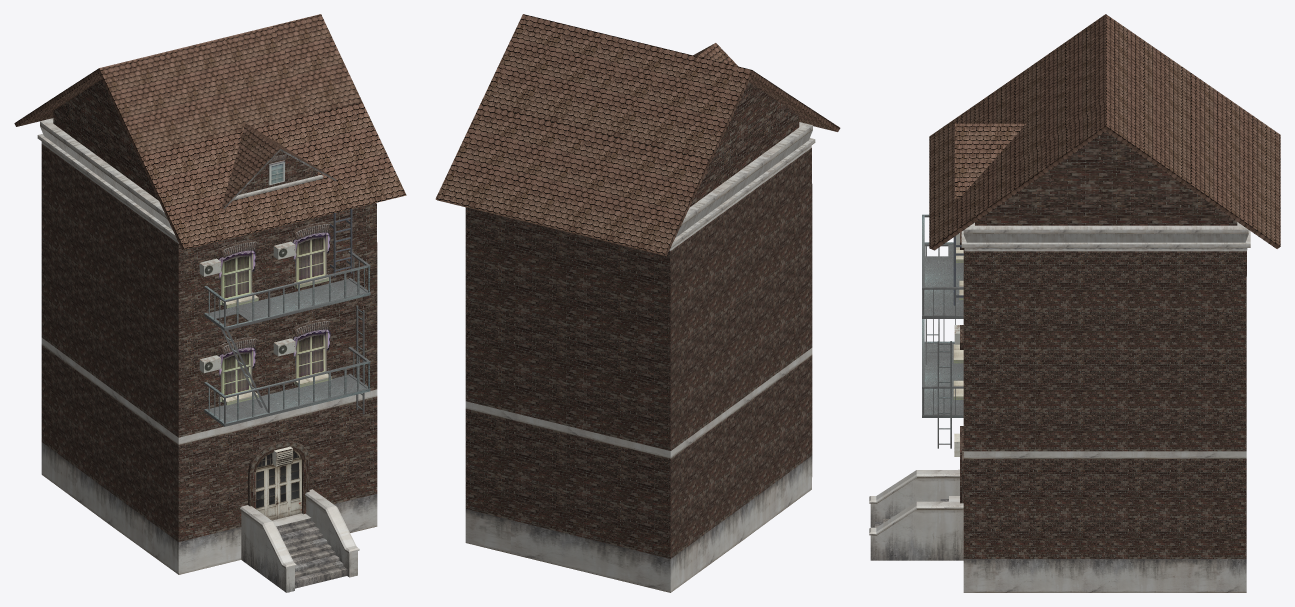
The model's file is city3_h1.fbx.
3 renders of one model, left to right at view 1: azimuth 30°, elevation 25°; view 2: azimuth 150°, elevation 25°; view 3: azimuth 270°, elevation 25°, orthographic. The views are drawn at different scales.
Parts seen in each view (by area): view 1: Default_Layer; view 2: Default_Layer; view 3: Default_Layer.
Part boxes in pixels (bbox=[...]): Default_Layer: bbox=[14, 14, 406, 592]; Default_Layer: bbox=[435, 14, 840, 592]; Default_Layer: bbox=[869, 14, 1280, 592].
Bounding box in the file's own units: 1081 × 2136 × 1682.
